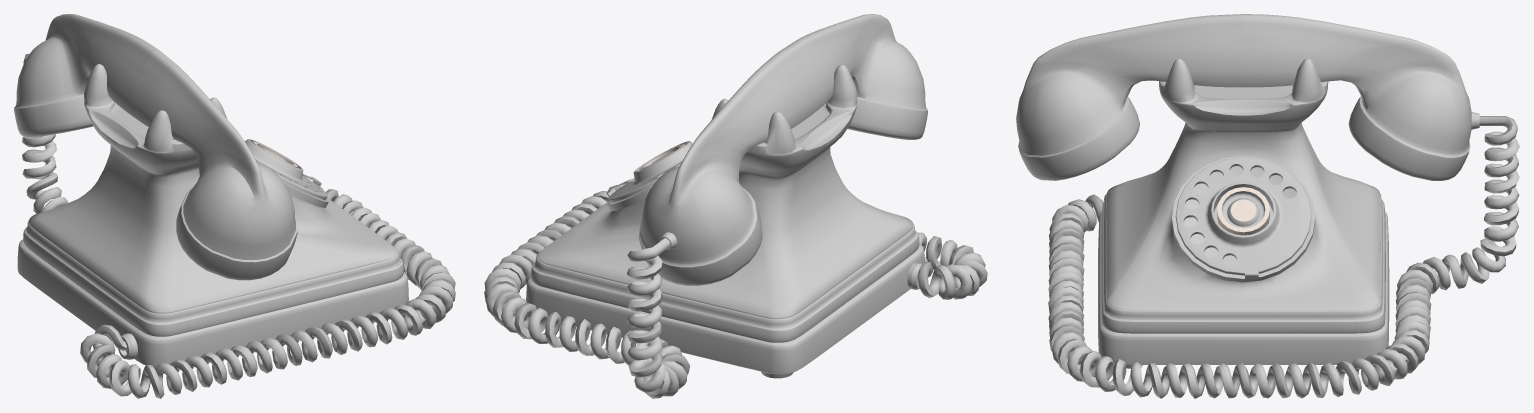
The model's file is SingleTelephone_01.FBX.
3 views of the same model, side by side, from view 1: azimuth 30°, elevation 25°; view 2: azimuth 150°, elevation 25°; view 3: azimuth 270°, elevation 25° (orthographic). The views are drawn at different scales.
Parts seen in each view (by area): view 1: Group_001, Telephone_receiver_highpoly_right_Sphere.001_001, Group_013, Group_014, Group_007, Phone_final_top_Plane.014_001, Group_009; view 2: Group_001, Group_007, Group_013, Group_014, Telephone_receiver_highpoly_right_Sphere.001_001, Phone_final_top_Plane.014_001, Group_009; view 3: Group_001, Group_013, Telephone_receiver_highpoly_right_Sphere.001_001, Group_007, Group_014, Group_009, Phone_final_top_Plane.014_001, Group_004, Group_011.
Part boxes in pixels (x1,y1,x2,y2): Group_001: (26, 145, 400, 322); Telephone_receiver_highpoly_right_Sphere.001_001: (130, 50, 297, 280); Group_013: (22, 53, 455, 398); Group_014: (17, 227, 408, 367); Group_007: (14, 14, 158, 137); Phone_final_top_Plane.014_001: (84, 64, 226, 175); Group_009: (245, 139, 327, 199); Group_001: (534, 147, 916, 328); Group_007: (638, 51, 809, 285); Group_013: (484, 185, 987, 398); Group_014: (526, 231, 924, 374); Telephone_receiver_highpoly_right_Sphere.001_001: (780, 14, 927, 139); Phone_final_top_Plane.014_001: (711, 64, 857, 178); Group_009: (608, 141, 692, 202); Group_001: (1104, 122, 1383, 320); Group_013: (1048, 116, 1519, 398); Telephone_receiver_highpoly_right_Sphere.001_001: (1016, 14, 1244, 180); Group_007: (1244, 14, 1471, 180); Group_014: (1098, 199, 1389, 364); Group_009: (1175, 157, 1311, 275); Phone_final_top_Plane.014_001: (1159, 58, 1328, 131); Group_004: (1172, 156, 1315, 282); Group_011: (1217, 187, 1269, 235).
Size of the model in its own units: 6.29 by 4.28 by 7.27.
